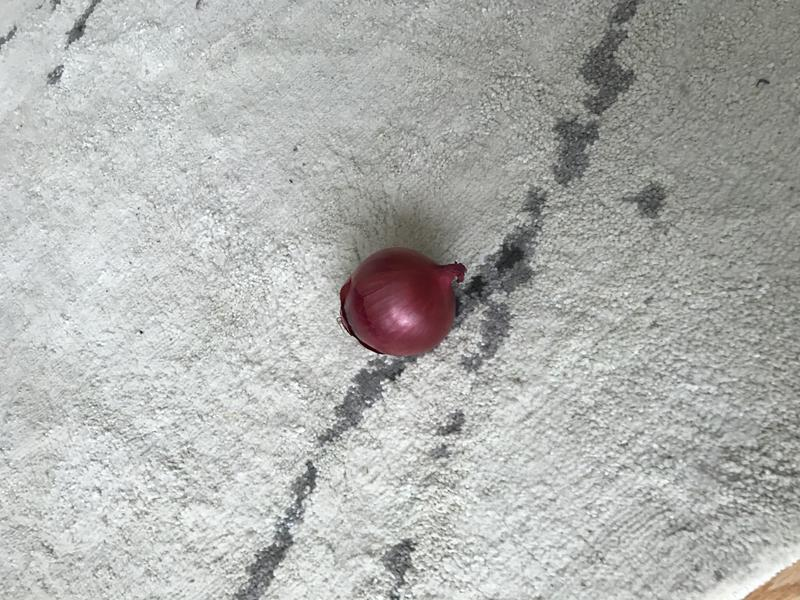purple_onion: (333, 240, 474, 365)
